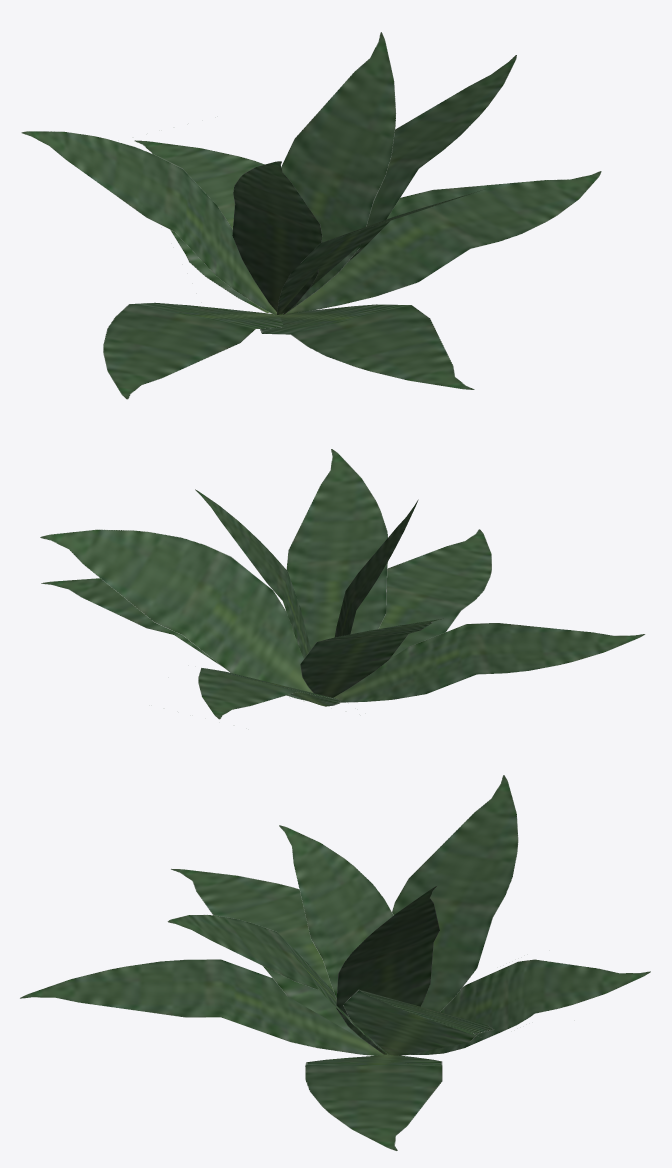
File: detail plant1.FBX
3 renders of one model, top to bottom at view 1: azimuth 30°, elevation 25°; view 2: azimuth 150°, elevation 25°; view 3: azimuth 270°, elevation 25°, orthographic. The views are drawn at different scales.
Visible parts, largest first — view 1: detail plant1; view 2: detail plant1; view 3: detail plant1.
Boxes of the visible parts, x1,y1,x2,y2 form: detail plant1: [21, 32, 601, 399]; detail plant1: [40, 449, 645, 719]; detail plant1: [20, 775, 650, 1150].
Size of the model in its own units: 2.34 by 0.8975 by 2.05.
